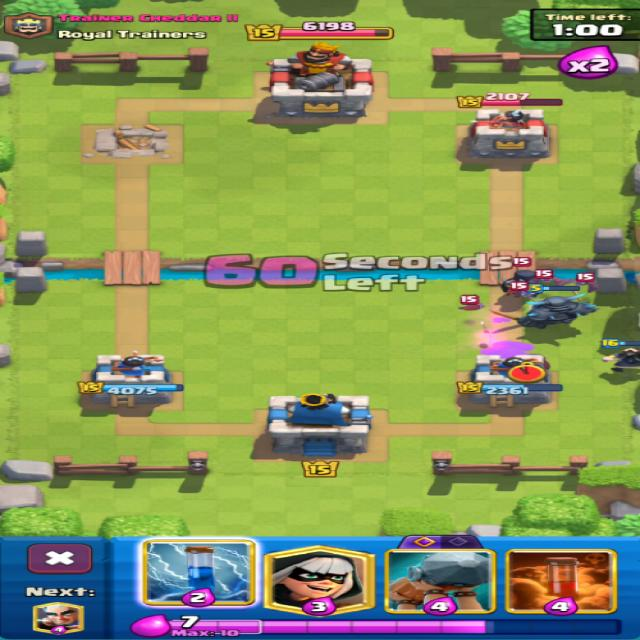Enemy-Bat: (527, 269, 561, 283), (574, 273, 598, 291), (507, 282, 533, 297), (460, 295, 481, 310)
Enemy-KingTower-Activated: (269, 42, 372, 116)
Enemy-NightWitch: (500, 270, 539, 297)
Enemy-PrincessTower: (466, 110, 549, 162)
Player-ElectroWizard: (602, 340, 639, 371)
Player-KingTower: (266, 392, 372, 456)
Player-PEKKA: (492, 294, 596, 328)
Player-PrincessTower: (78, 351, 183, 406), (458, 354, 562, 407)
